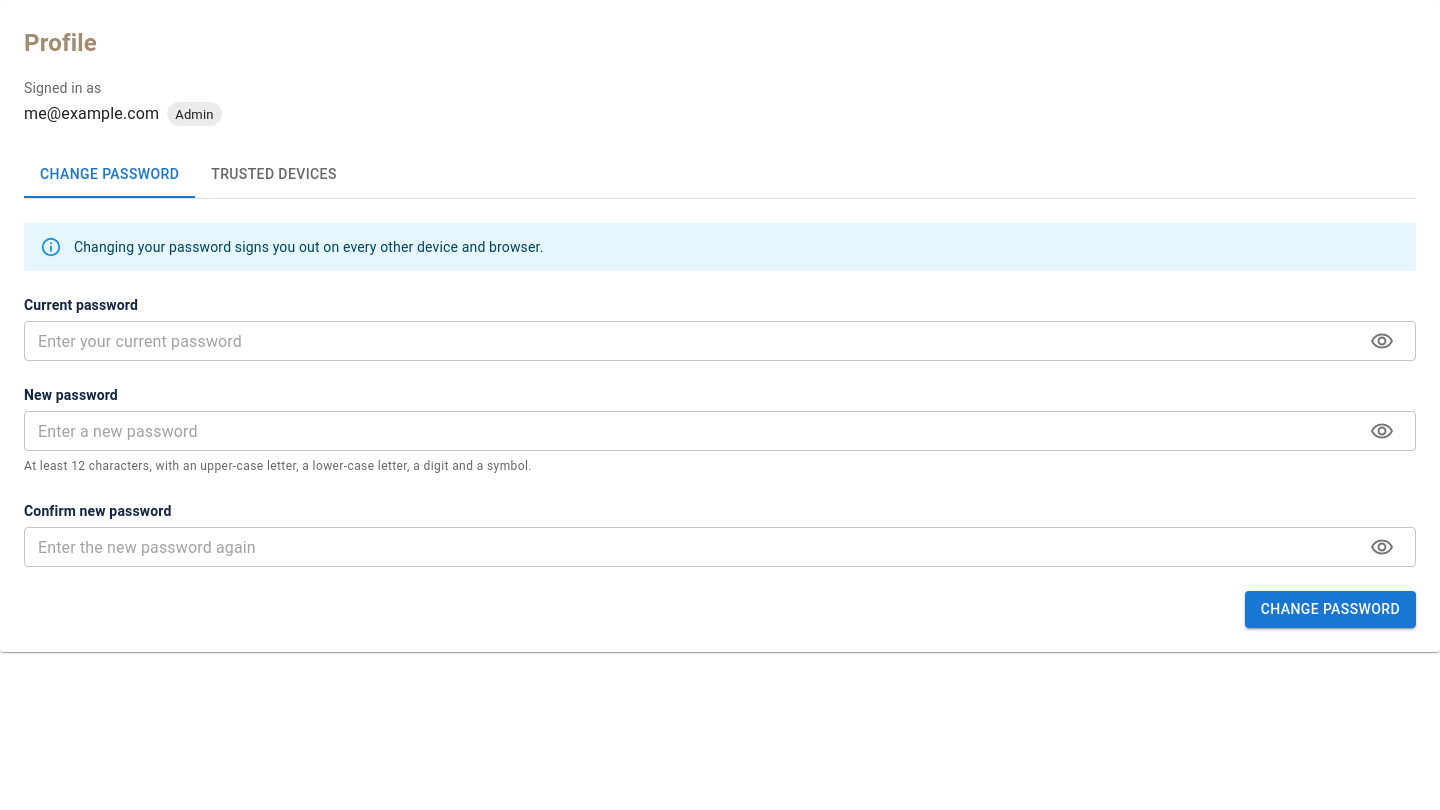
Test case: TEOS-256 Profile > Trusted devices › the tab is reachable from Change password and kept in the URL
This screenshot has width=1440, height=810.
Click the tab "Trusted devices". click: (274, 174)
box: [195,150,353,198]
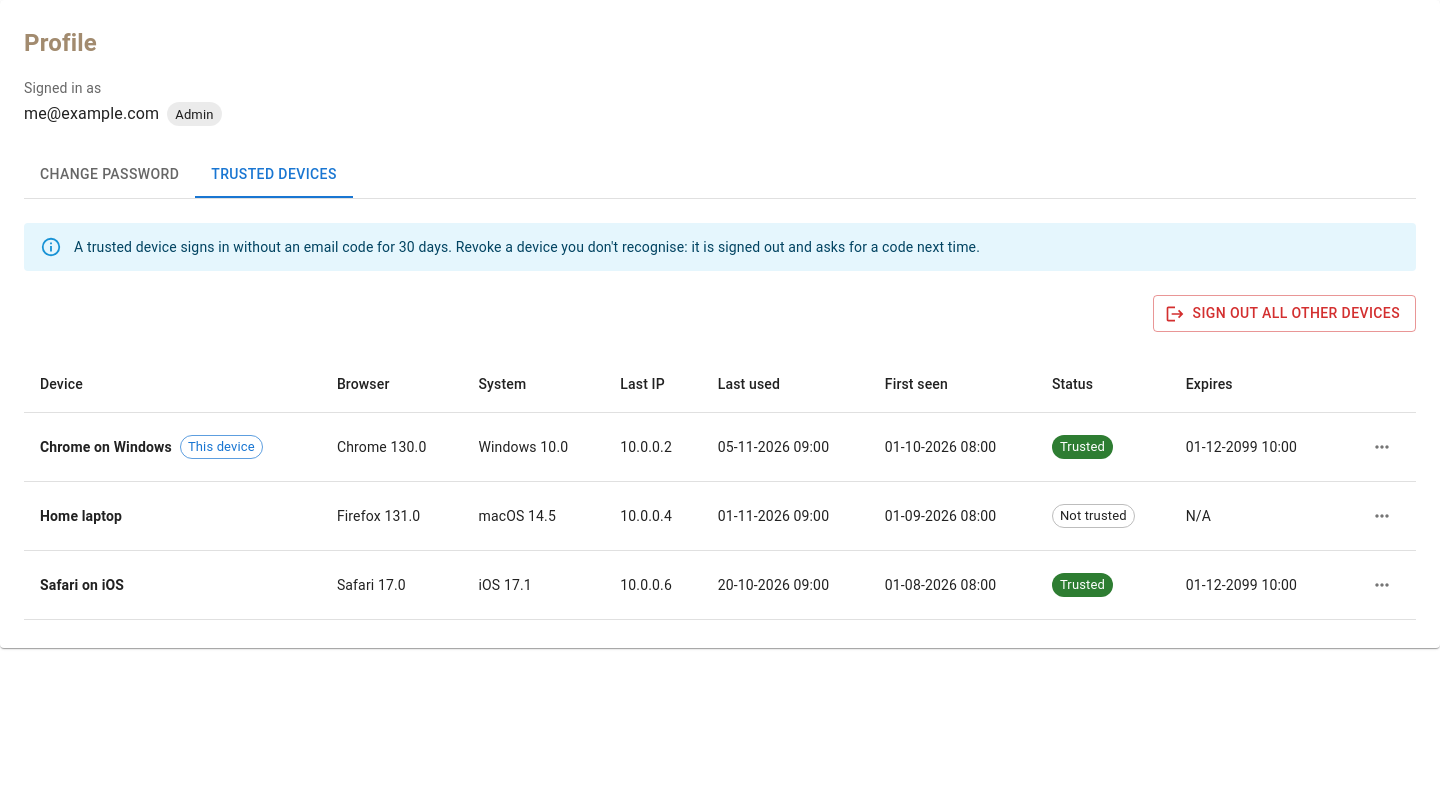
Now the text "Home laptop" is shown, box [40,506,122,526]
